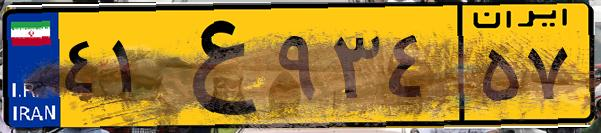1: (110, 28, 158, 98)
3: (330, 28, 385, 110)
4: (385, 28, 445, 110), (57, 26, 110, 100)
5: (475, 38, 525, 113)
7: (525, 38, 570, 115)
9: (270, 28, 330, 110)
ع: (158, 12, 270, 120)
